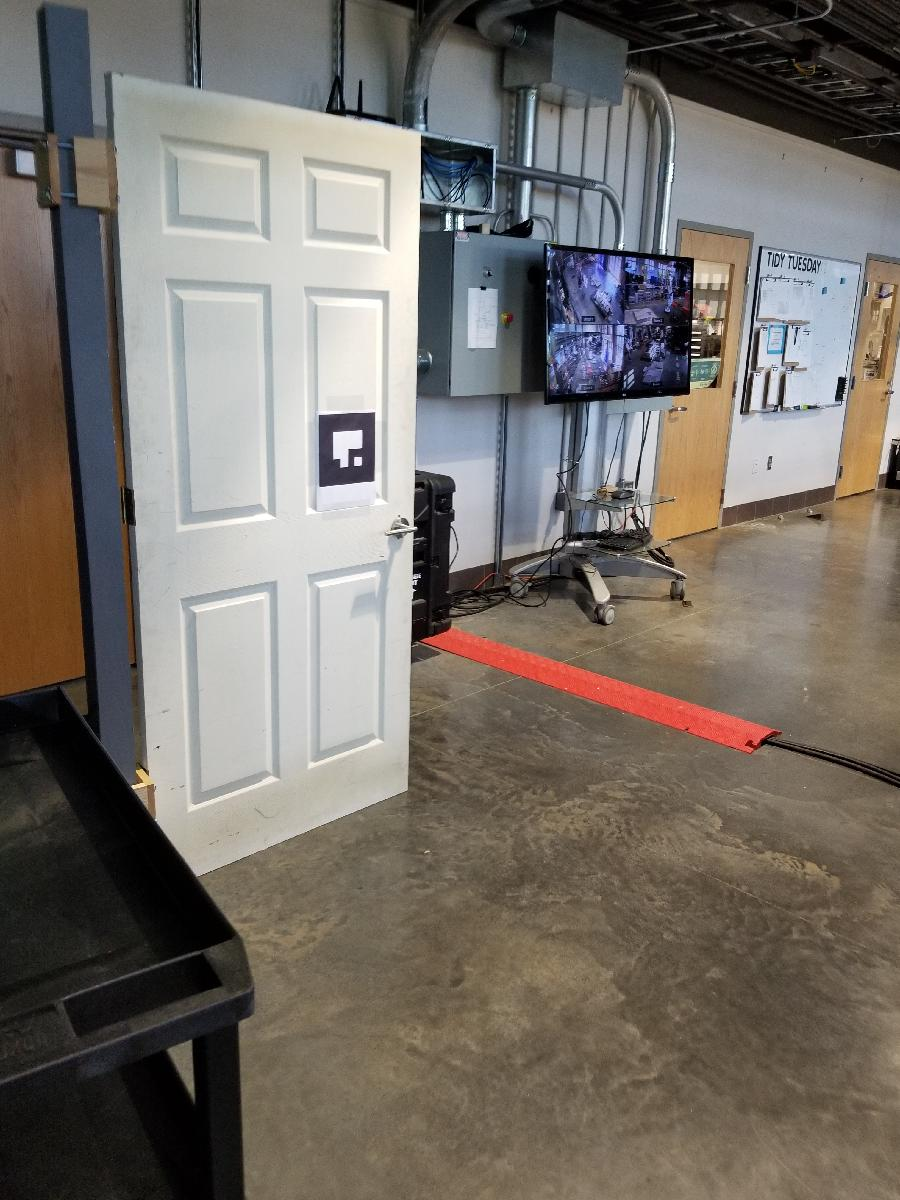door: (105, 66, 429, 908)
doorHandle: (382, 518, 424, 553)
